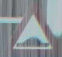Speed Breaker ahead: (3, 3, 55, 50)
